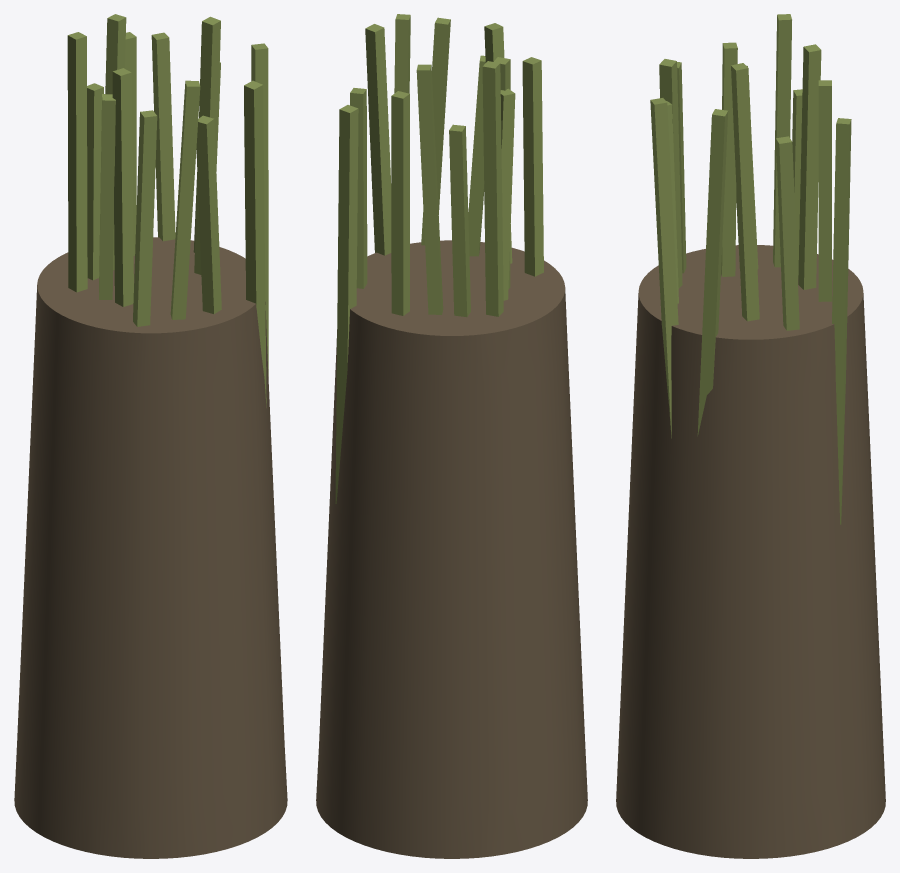
The model's file is e12-pollarded-willow.glb.
3 views of the same model, side by side, from view 1: azimuth 30°, elevation 25°; view 2: azimuth 150°, elevation 25°; view 3: azimuth 270°, elevation 25° (orthographic).
Visible parts, largest first — view 1: part0, part7, part13, part9, part10, part11, part12, part3, part8, part6, part1, part14 (+2 smaller); view 2: part0, part3, part7, part14, part10, part4, part5, part6, part13, part8, part12, part2 (+2 smaller); view 3: part0, part3, part14, part1, part13, part5, part2, part4, part9, part7, part11, part6 (+2 smaller).
Part boxes in pixels (x1,y1,x2,y2): part0: [14, 237, 287, 858]; part7: [67, 32, 87, 292]; part13: [244, 80, 266, 407]; part9: [112, 68, 133, 306]; part10: [133, 110, 157, 326]; part11: [170, 80, 200, 319]; part12: [196, 115, 221, 313]; part3: [151, 32, 175, 241]; part8: [99, 94, 115, 299]; part6: [87, 83, 103, 280]; part1: [194, 16, 220, 274]; part14: [251, 43, 268, 376]; part0: [316, 240, 587, 858]; part3: [335, 105, 358, 503]; part7: [482, 61, 503, 316]; part14: [365, 24, 391, 255]; part10: [522, 57, 543, 276]; part4: [391, 91, 409, 315]; part5: [416, 64, 443, 314]; part6: [449, 124, 470, 317]; part13: [421, 17, 450, 245]; part8: [500, 88, 515, 300]; part12: [468, 55, 485, 256]; part2: [350, 88, 367, 288]; part0: [616, 245, 885, 858]; part3: [832, 118, 851, 524]; part14: [697, 109, 728, 436]; part1: [731, 63, 759, 321]; part13: [650, 98, 678, 438]; part5: [798, 44, 821, 289]; part2: [776, 136, 799, 330]; part4: [818, 80, 831, 301]; part9: [721, 42, 737, 276]; part7: [773, 14, 791, 267]; part11: [659, 59, 682, 288]; part6: [792, 89, 802, 278].
Size of the model in its own units: 1199 by 3737 by 1199.
